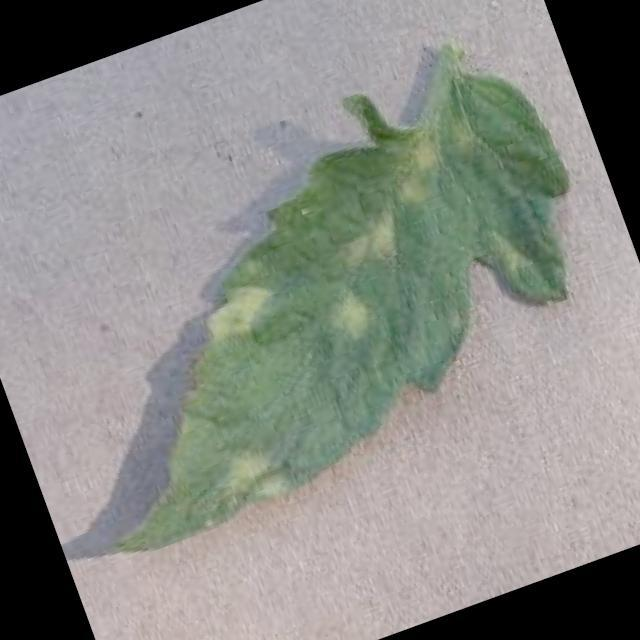Tomato mold leaf: (0, 38, 638, 565)
